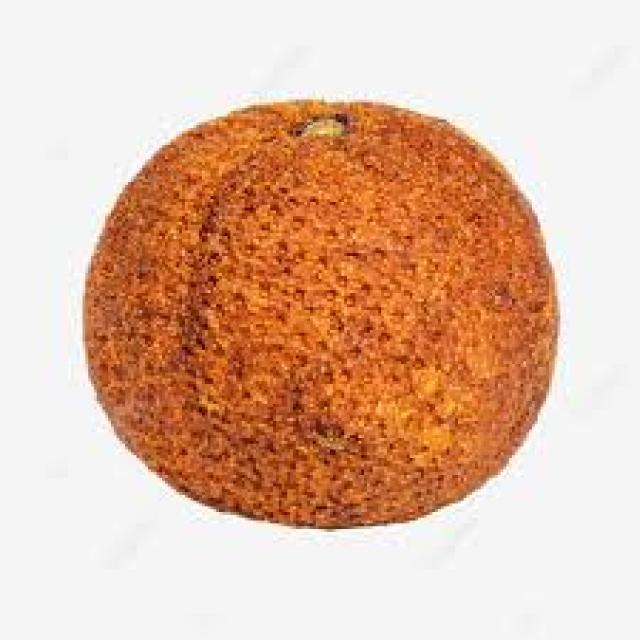overripe: (73, 92, 567, 532)
